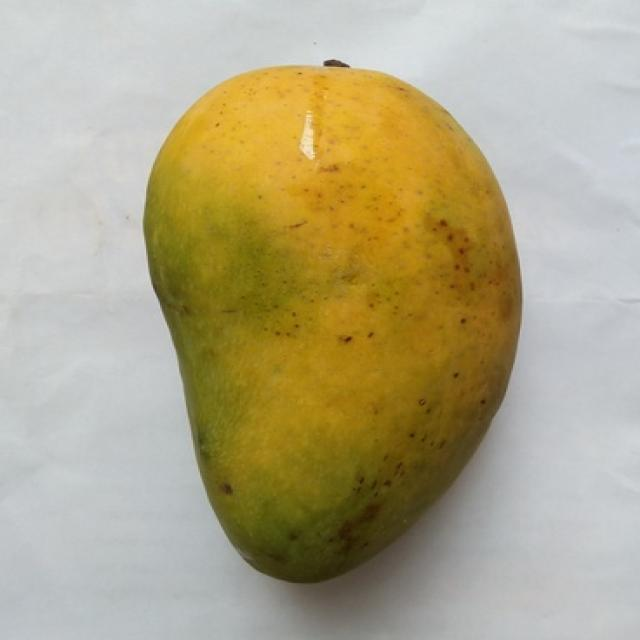Mango: (144, 67, 520, 580)
